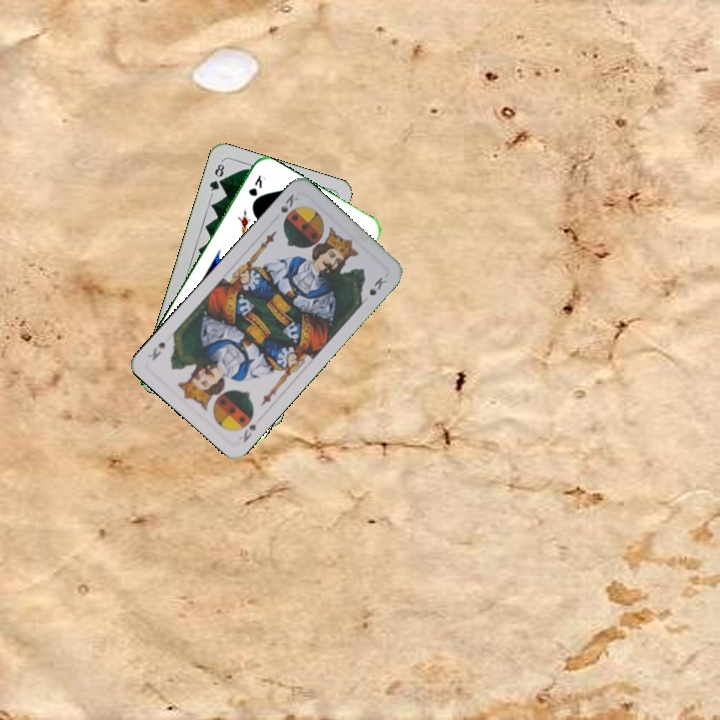G8: (205, 157, 227, 197)
GK: (244, 171, 268, 199)
SK: (235, 420, 259, 445), (277, 189, 297, 215)
